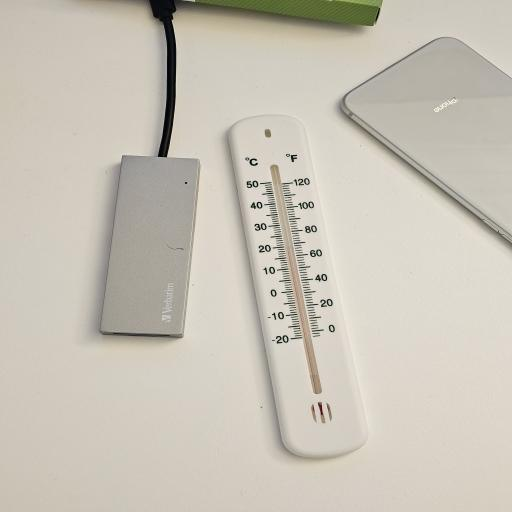thermometer: (226, 114, 369, 460)
